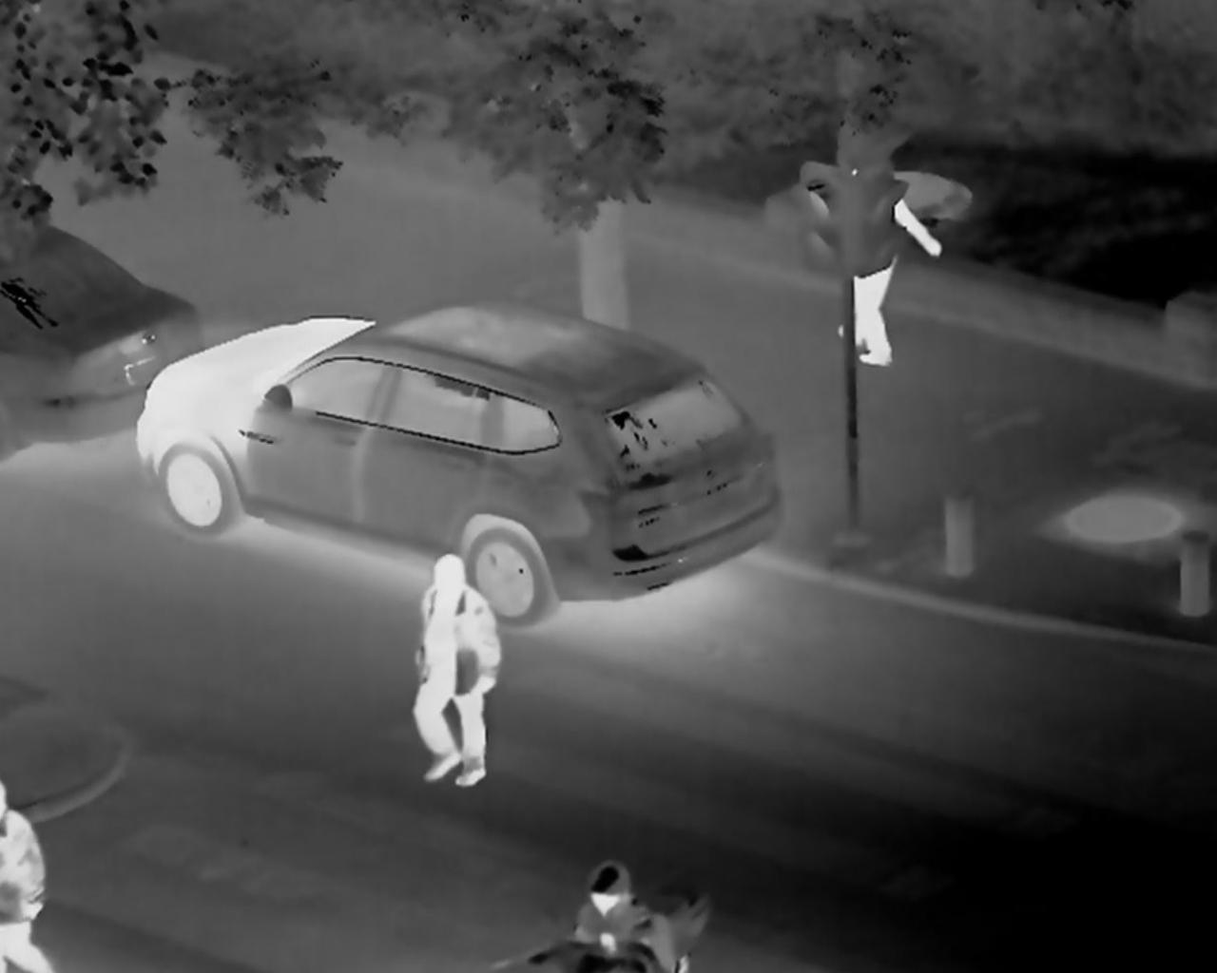person: (419, 516, 505, 821), (805, 222, 917, 382), (8, 801, 76, 973), (574, 853, 664, 973)
